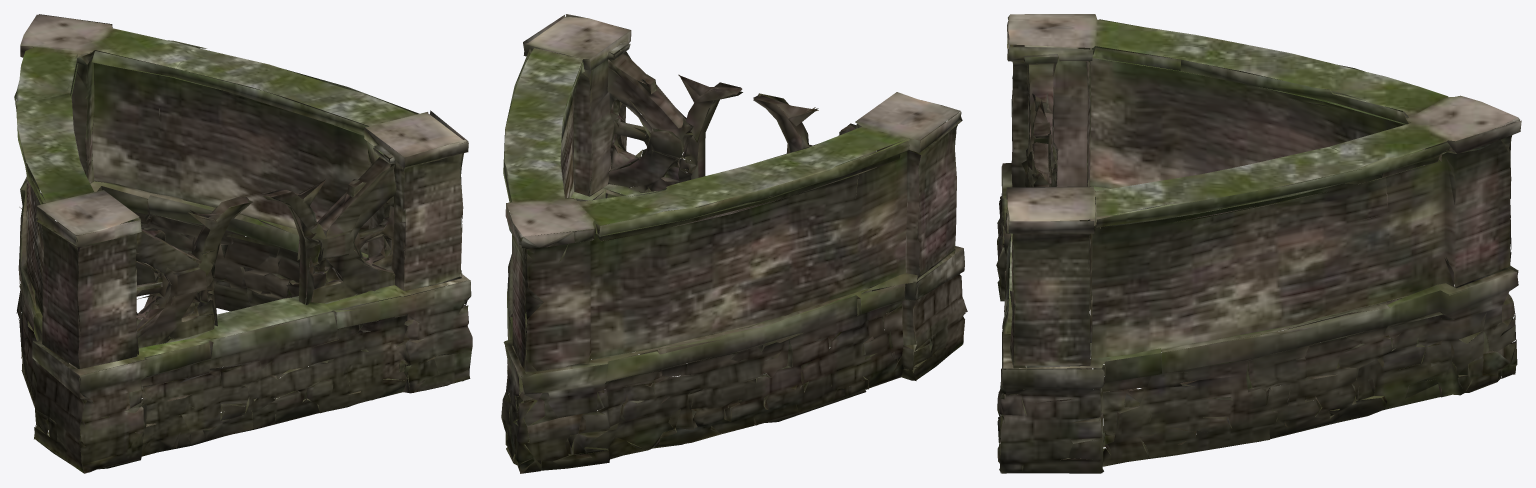
The model's file is service-wall-corner.glb.
The picture shows the model from 3 angles, left to right: view 1: azimuth 30°, elevation 25°; view 2: azimuth 150°, elevation 25°; view 3: azimuth 270°, elevation 25°; orthographic projection. The views are drawn at different scales.
Parts seen in each view (by area): view 1: Mesh_0; view 2: Mesh_0; view 3: Mesh_0.
Boxes of the visible parts, bbox=[...] form: Mesh_0: bbox=[14, 14, 472, 473]; Mesh_0: bbox=[501, 14, 967, 473]; Mesh_0: bbox=[996, 14, 1521, 473].
Size of the model in its own units: 1.78 by 1.04 by 1.91.
1 material, 1 textured.
